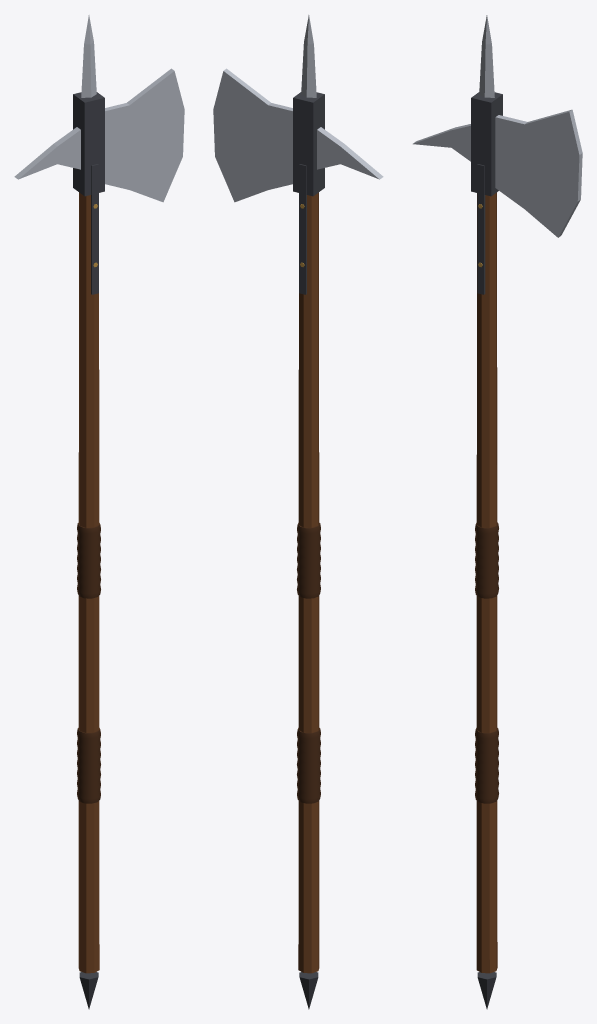
The model's file is halberd.glb.
The picture shows the model from 3 angles, left to right: view 1: azimuth 30°, elevation 25°; view 2: azimuth 150°, elevation 25°; view 3: azimuth 330°, elevation 25°; orthographic projection.
Visible parts, largest first — view 1: Halberd_Shaft, Halberd_Head, Halberd_Fittings, Halberd_OffGrip, Halberd_Grip; view 2: Halberd_Shaft, Halberd_Head, Halberd_Fittings, Halberd_OffGrip, Halberd_Grip; view 3: Halberd_Shaft, Halberd_Head, Halberd_Fittings, Halberd_OffGrip, Halberd_Grip.
Boxes of the visible parts, box(x1,y1,x2,y2) form: Halberd_Shaft: box(78, 192, 99, 973); Halberd_Head: box(14, 15, 184, 202); Halberd_Fittings: box(73, 92, 104, 1009); Halberd_OffGrip: box(77, 522, 100, 598); Halberd_Grip: box(77, 728, 100, 803); Halberd_Shaft: box(298, 192, 319, 973); Halberd_Head: box(213, 15, 383, 202); Halberd_Fittings: box(293, 92, 324, 1009); Halberd_OffGrip: box(297, 522, 320, 598); Halberd_Grip: box(297, 728, 320, 803); Halberd_Shaft: box(476, 192, 497, 973); Halberd_Head: box(413, 15, 582, 237); Halberd_Fittings: box(471, 92, 502, 1009); Halberd_OffGrip: box(475, 522, 498, 598); Halberd_Grip: box(475, 728, 498, 803).
Size of the model in its own units: 0.298 by 1.7 by 0.042.
